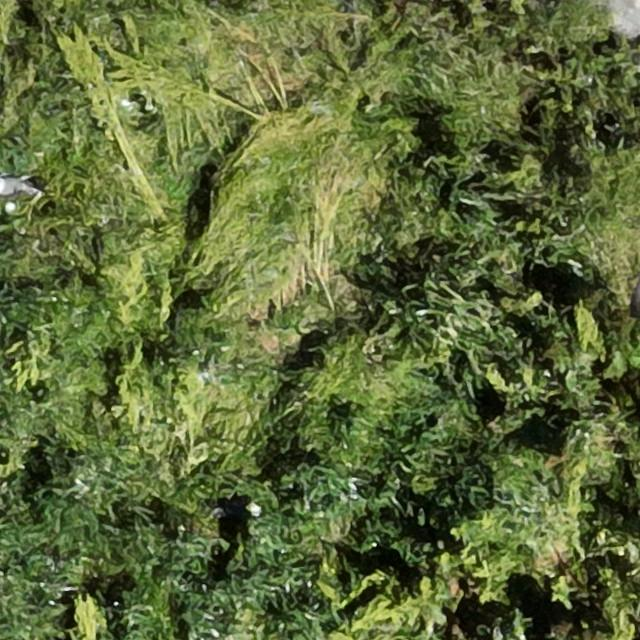umineko: (1, 178, 27, 197)
